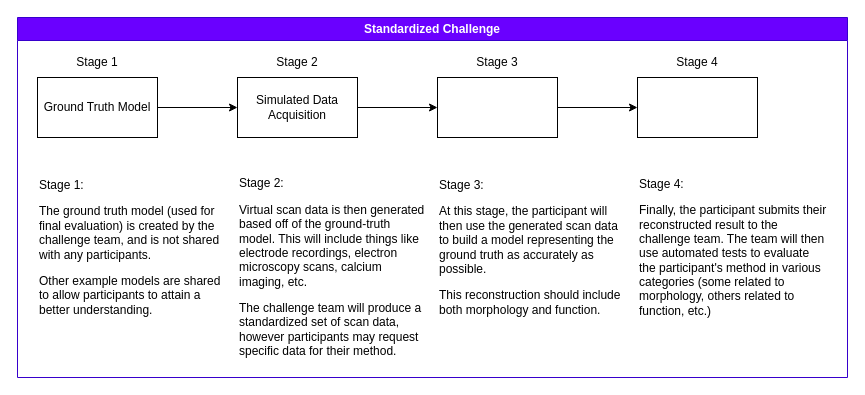
The diagram is 865 pixels wide and 395 high, and some of its shapes have lost their labels. The centre of each missing label's shape, as x and y in pixels:
"Participant Reconstruction Method" belongs at point (497, 107).
"Validate Against Ground Truth" belongs at point (697, 107).
